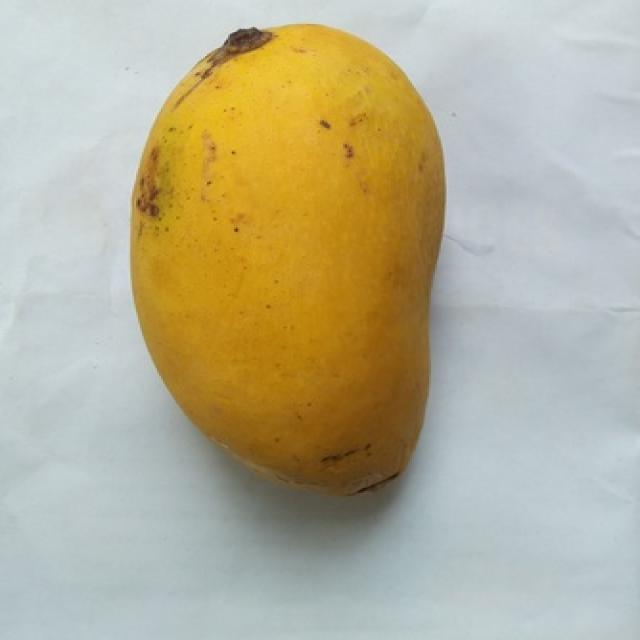Mango: (130, 24, 443, 494)
